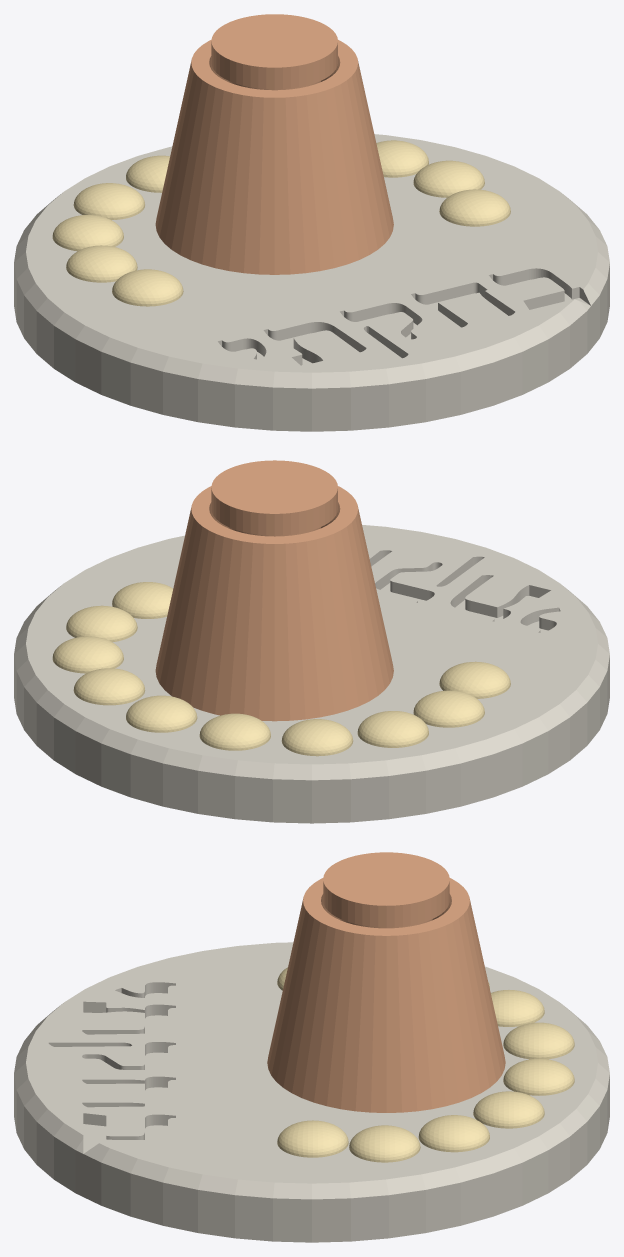
File: bechukotai.glb
3 renders of one model, top to bottom at view 1: azimuth 30°, elevation 25°; view 2: azimuth 150°, elevation 25°; view 3: azimuth 270°, elevation 25°, orthographic.
Parts seen in each view (by area): view 1: stage, oven, oven-lid, loaf--1, loaf--10, loaf--9, loaf--7, loaf--2, loaf--8, loaf--3, loaf--6; view 2: stage, oven, oven-lid, loaf--4, loaf--5, loaf--6, loaf--7, loaf--8, loaf--9, loaf--3, loaf--10, loaf--2 (+1 smaller); view 3: stage, oven, oven-lid, loaf--1, loaf--2, loaf--4, loaf--3, loaf--5, loaf--6, loaf--7.
Part boxes in pixels (x1,y1,x2,y2): stage: (14,134,609,431); oven: (155,39,393,274); oven-lid: (211,14,337,90); loaf--1: (439,189,510,226); loaf--10: (112,269,183,306); loaf--9: (66,245,137,282); loaf--7: (73,183,144,219); loaf--2: (413,160,484,197); loaf--8: (52,215,123,251); loaf--3: (376,140,428,177); loaf--6: (126,155,169,192); stage: (14,525,609,823); oven: (155,486,393,721); oven-lid: (211,460,337,536); loaf--4: (73,668,145,705); loaf--5: (126,695,197,732); loaf--6: (199,713,270,750); loaf--7: (281,719,353,756); loaf--8: (357,711,428,747); loaf--9: (413,690,484,727); loaf--3: (52,636,123,673); loaf--10: (439,661,510,698); loaf--2: (66,605,137,642); stage: (14,942,609,1242); oven: (267,878,505,1112); oven-lid: (323,852,449,928); loaf--1: (277,1120,348,1157); loaf--2: (349,1125,420,1162); loaf--4: (473,1091,544,1128); loaf--3: (418,1115,489,1152); loaf--5: (503,1058,574,1095); loaf--6: (503,1022,574,1059); loaf--7: (490,990,544,1026).
Size of the model in its own units: 40 by 17.6 by 40.
